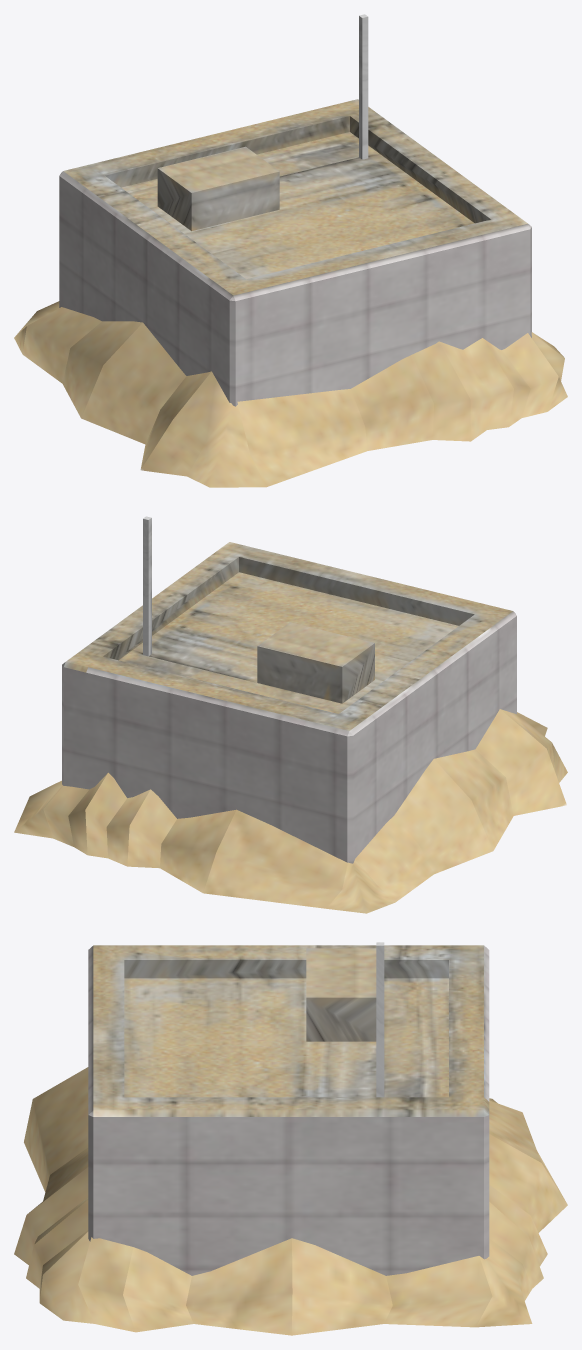
File: TDHus4.fbx
3 renders of one model, top to bottom at view 1: azimuth 30°, elevation 25°; view 2: azimuth 150°, elevation 25°; view 3: azimuth 270°, elevation 25°, orthographic. The views are drawn at different scales.
Visible parts, largest first — view 1: TDHus_IV; view 2: TDHus_IV; view 3: TDHus_IV.
Part boxes in pixels (left/top/right/bottom): TDHus_IV: left=14, top=14, right=567, bottom=487; TDHus_IV: left=14, top=516, right=567, bottom=913; TDHus_IV: left=14, top=942, right=567, bottom=1335.
Size of the model in its own units: 68.35 by 47.2 by 67.6.
